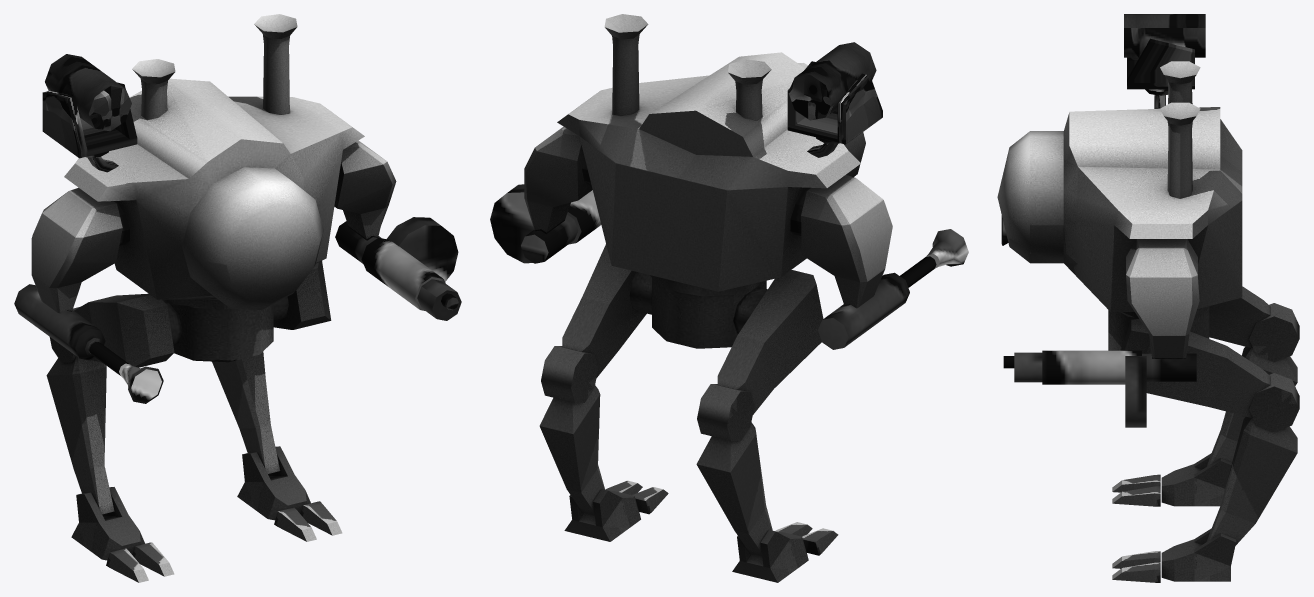
File: mech01.fbx
3 views of the same model, side by side, from view 1: azimuth 30°, elevation 25°; view 2: azimuth 150°, elevation 25°; view 3: azimuth 270°, elevation 25° (orthographic). The views are drawn at different scales.
Parts seen in each view (by area): view 1: torso, handR, Cannon, lowerLegR, upperLegR, hips, laser, handL, lowerLegL, rocketLauncher3, rocketLauncher2, footL (+4 smaller); view 2: torso, upperLegR, handR, upperLegL, lowerLegR, lowerLegL, handL, laser, Cannon, hips, rocketLauncher3, rocketLauncher2 (+4 smaller); view 3: torso, upperLegL, handL, Cannon, lowerLegL, upperLegR, footL, rocketLauncher3, footR, rocketLauncher2, lowerLegR, toesR (+2 smaller).
Boxes of the visible parts, x1=… form: torso: x1=64, y1=14, x2=364, y2=309; handR: x1=31, y1=187, x2=129, y2=313; Cannon: x1=335, y1=217, x2=461, y2=320; lowerLegR: x1=46, y1=357, x2=114, y2=514; upperLegR: x1=49, y1=293, x2=182, y2=367; hips: x1=166, y1=299, x2=273, y2=362; laser: x1=14, y1=284, x2=163, y2=403; handL: x1=334, y1=140, x2=396, y2=240; lowerLegL: x1=212, y1=351, x2=280, y2=473; rocketLauncher3: x1=45, y1=54, x2=131, y2=131; rocketLauncher2: x1=42, y1=82, x2=137, y2=158; footL: x1=237, y1=446, x2=310, y2=520; torso: x1=557, y1=14, x2=865, y2=296; upperLegR: x1=697, y1=270, x2=823, y2=440; handR: x1=790, y1=175, x2=892, y2=308; upperLegL: x1=541, y1=244, x2=651, y2=402; lowerLegR: x1=696, y1=422, x2=772, y2=556; lowerLegL: x1=539, y1=385, x2=604, y2=515; handL: x1=524, y1=126, x2=592, y2=234; laser: x1=818, y1=229, x2=968, y2=349; Cannon: x1=490, y1=184, x2=601, y2=263; hips: x1=652, y1=278, x2=766, y2=348; rocketLauncher3: x1=788, y1=42, x2=876, y2=120; rocketLauncher2: x1=787, y1=61, x2=882, y2=144; torso: x1=997, y1=61, x2=1242, y2=318; upperLegL: x1=1121, y1=319, x2=1299, y2=431; handL: x1=1126, y1=239, x2=1199, y2=358; Cannon: x1=1003, y1=350, x2=1196, y2=427; lowerLegL: x1=1206, y1=416, x2=1297, y2=545; upperLegR: x1=1209, y1=286, x2=1299, y2=361; footL: x1=1161, y1=528, x2=1236, y2=581; rocketLauncher3: x1=1124, y1=14, x2=1205, y2=57; footR: x1=1161, y1=453, x2=1231, y2=506; rocketLauncher2: x1=1127, y1=38, x2=1194, y2=89; lowerLegR: x1=1206, y1=346, x2=1297, y2=466; toesR: x1=1112, y1=474, x2=1160, y2=506.
Size of the model in its own units: 857 by 1027 by 608.
